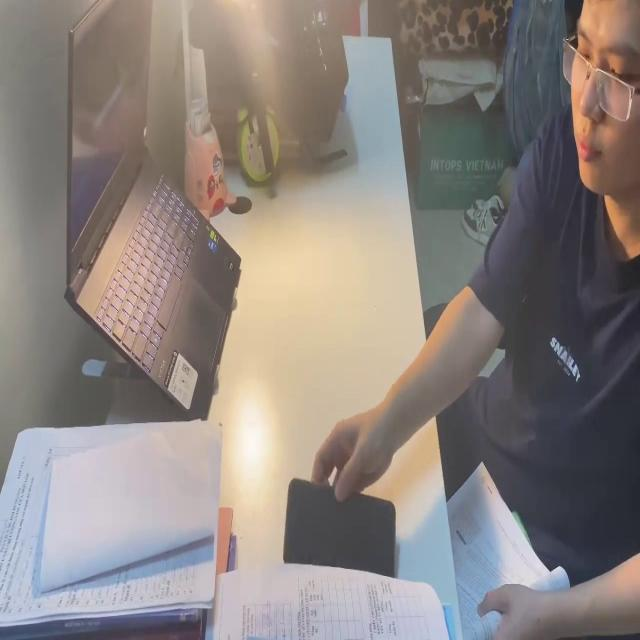book: (0, 410, 228, 640), (452, 459, 572, 640), (226, 568, 447, 640)
laptop: (59, 0, 244, 419)
phone: (283, 477, 400, 584)
student: (310, 0, 640, 640)
